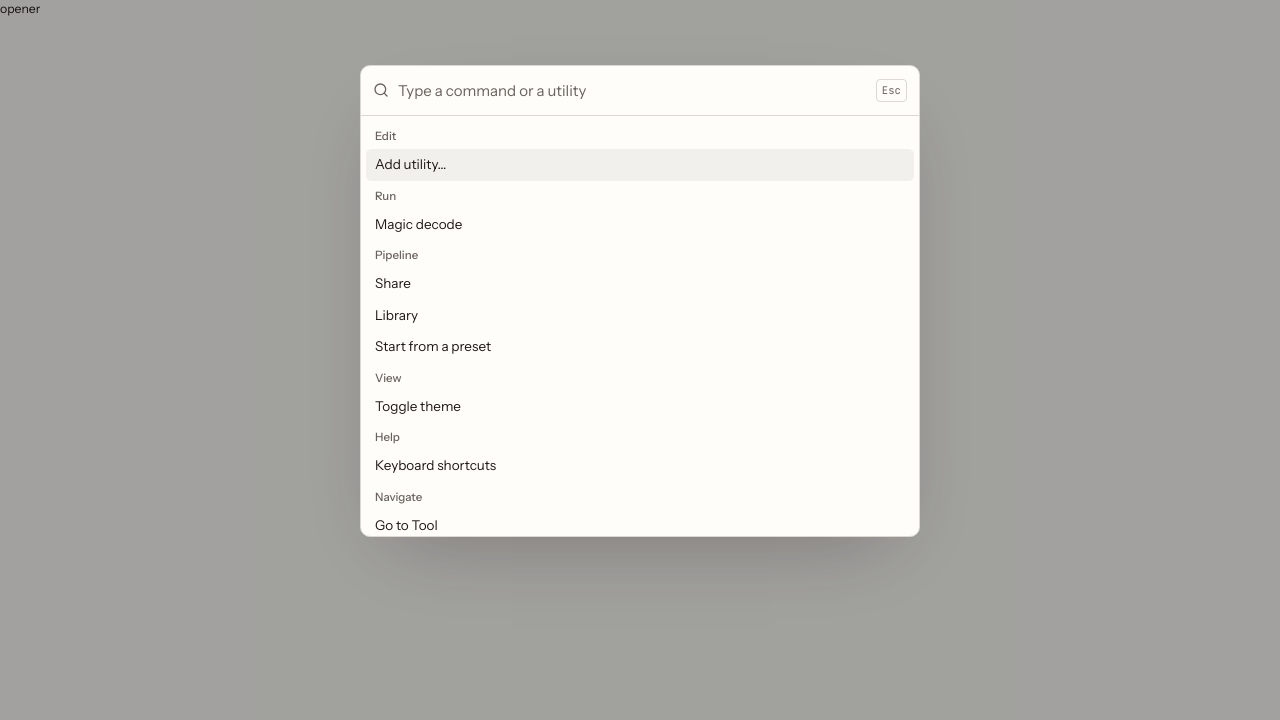
Test: CommandPalette › "Keyboard shortcuts" closes the palette first, so the help dialog keeps focus and returns it to the real opener
This screenshot has width=1280, height=720.
Type "keyboard shortcuts" into the dropdown.
click(633, 90); type("keyboard shortcuts")  # box 398,82 -> 867,99
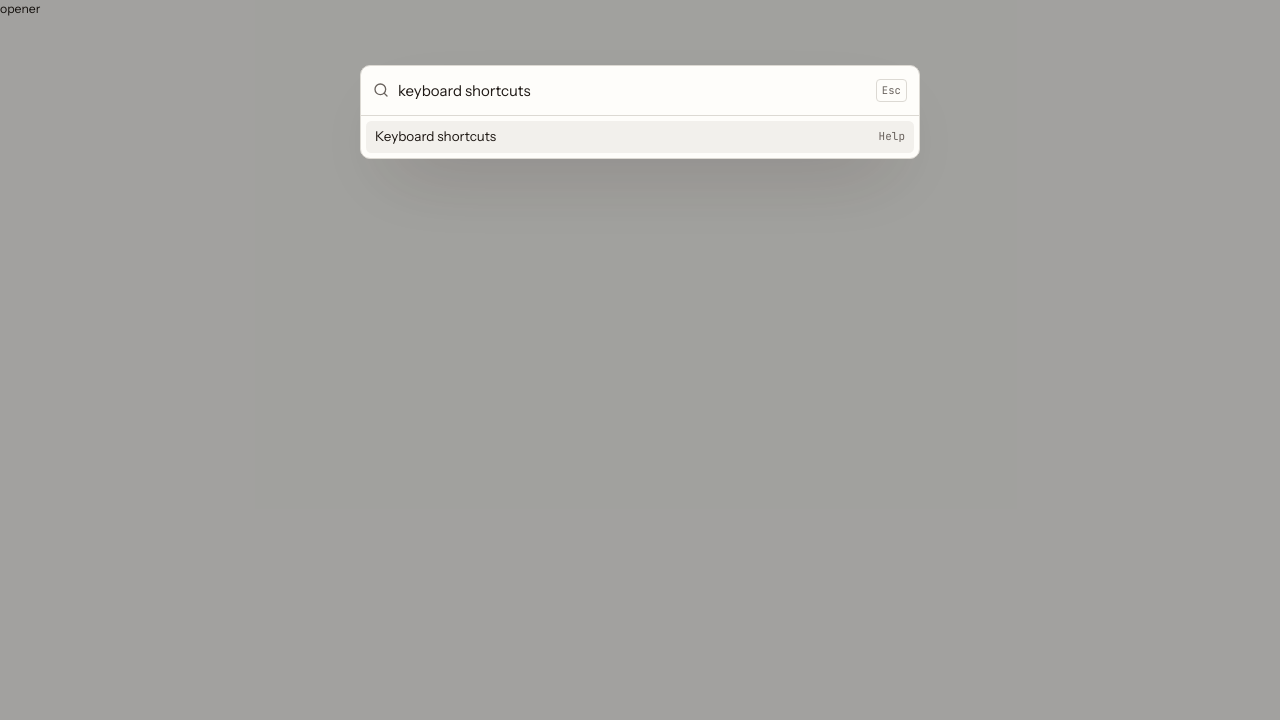
Press Enter in the dropdown, box 398,82 -> 867,99
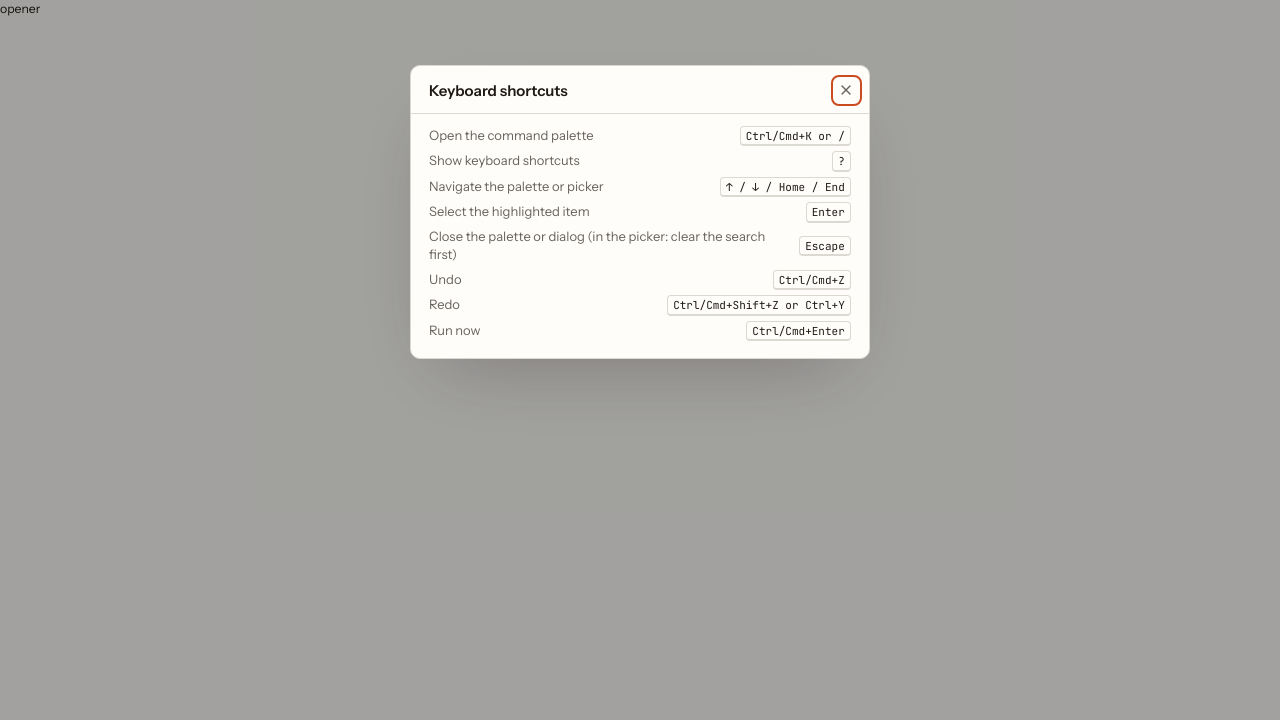
Press Escape in the button named "close", box 834,78 -> 858,102
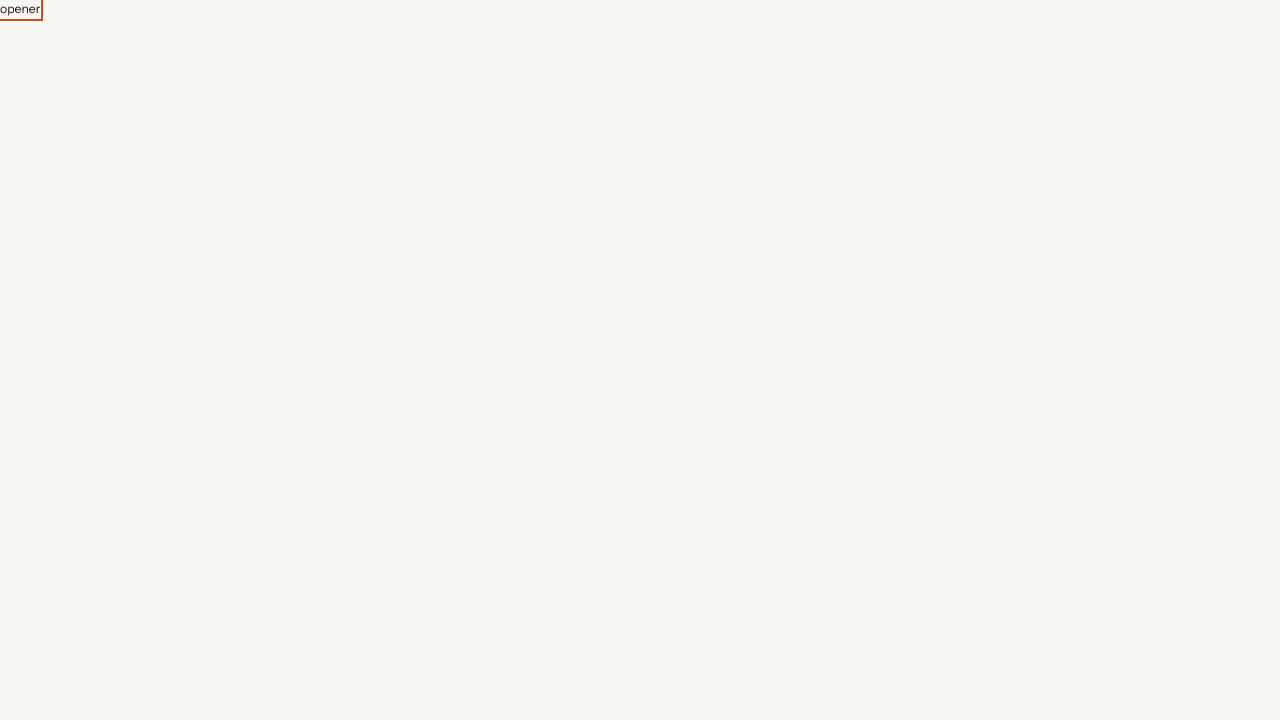
Expected: the dialog is gone
